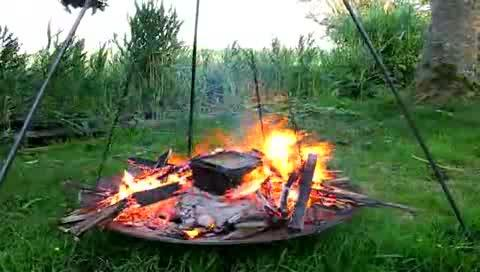fire: (120, 119, 334, 207)
